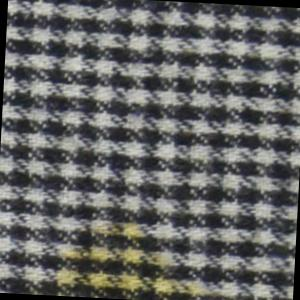Stain: (51, 215, 209, 300)
